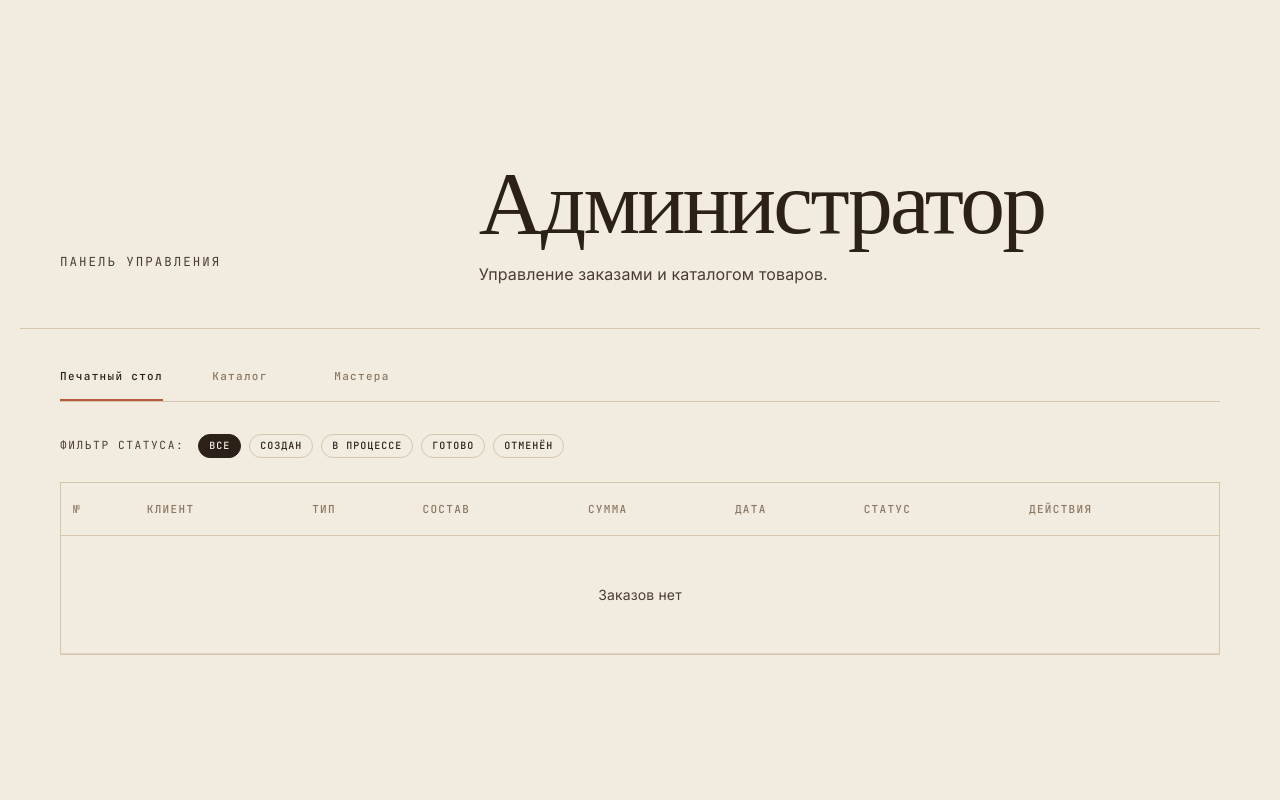
Admin: вкладка каталога › кнопка удаления открывает диалог подтверждения
Click the tab "Каталог": (240, 376) 195,352 -> 285,400
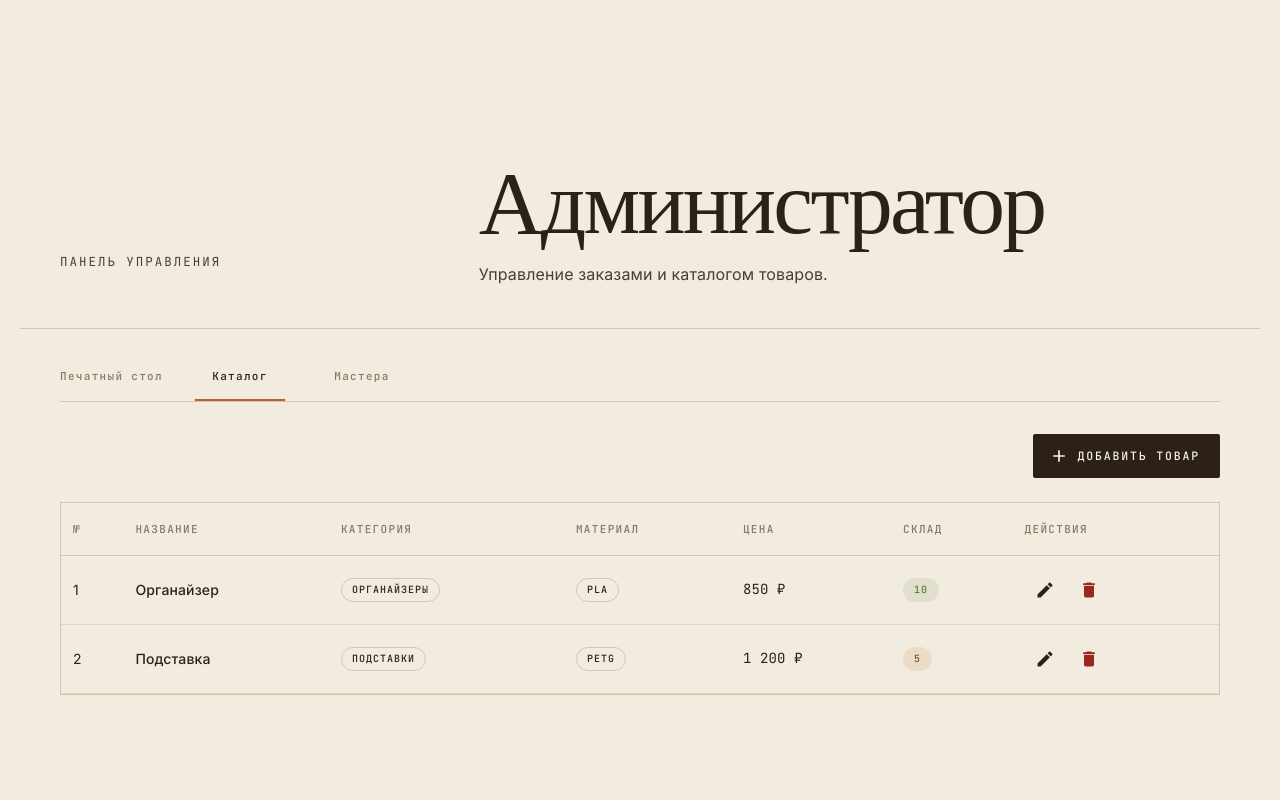
Expected: the text "Удалить товар?" is not shown
Expected: the text "Органайзер" is shown, 124,555 -> 329,624
Click the 3rd button: (1089, 590) 1069,570 -> 1109,610
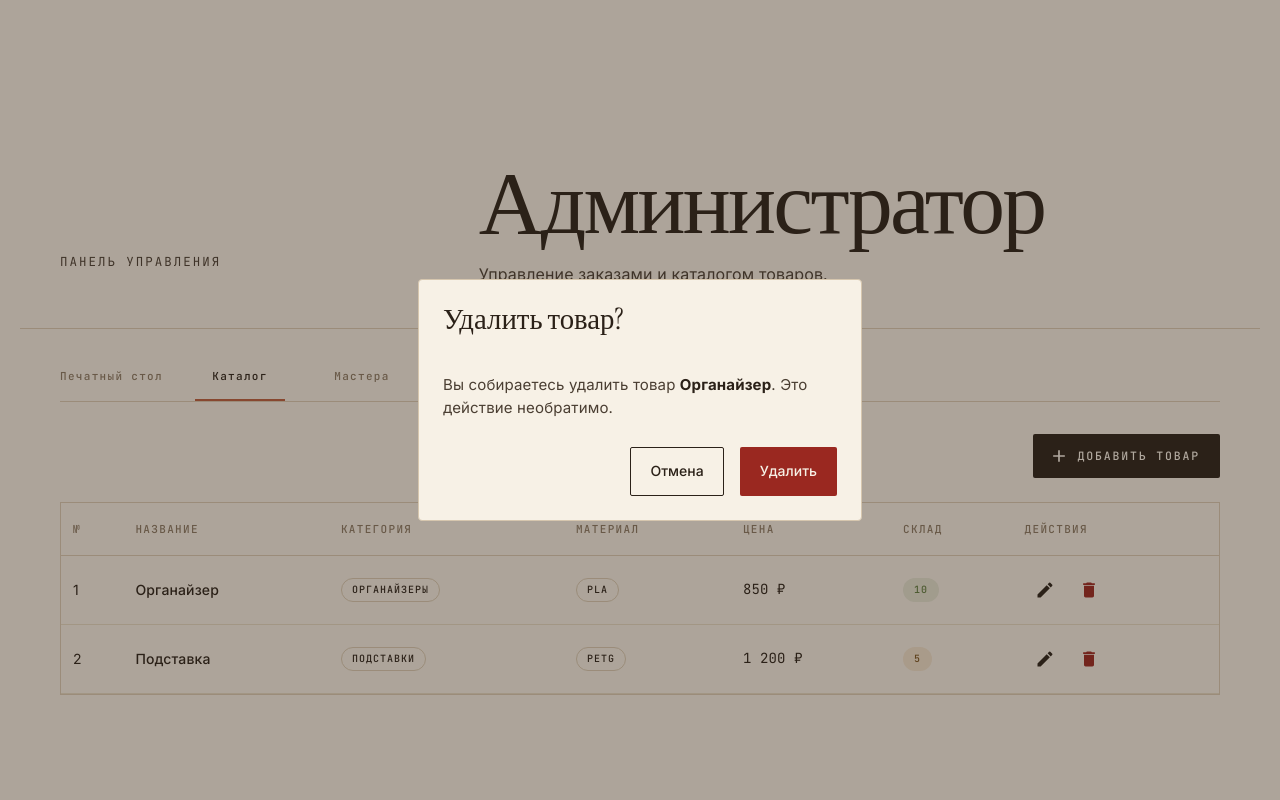
Expected: the heading "Удалить товар?" is shown, 443,300 -> 624,338
